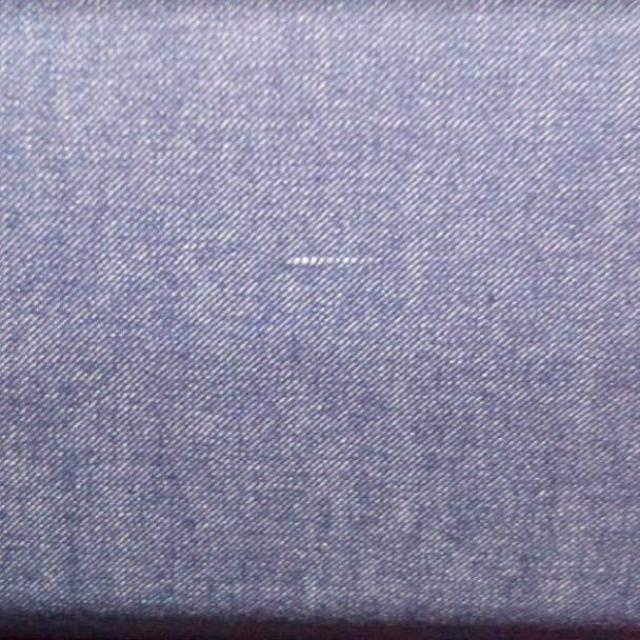Knot: (285, 255, 377, 267)
